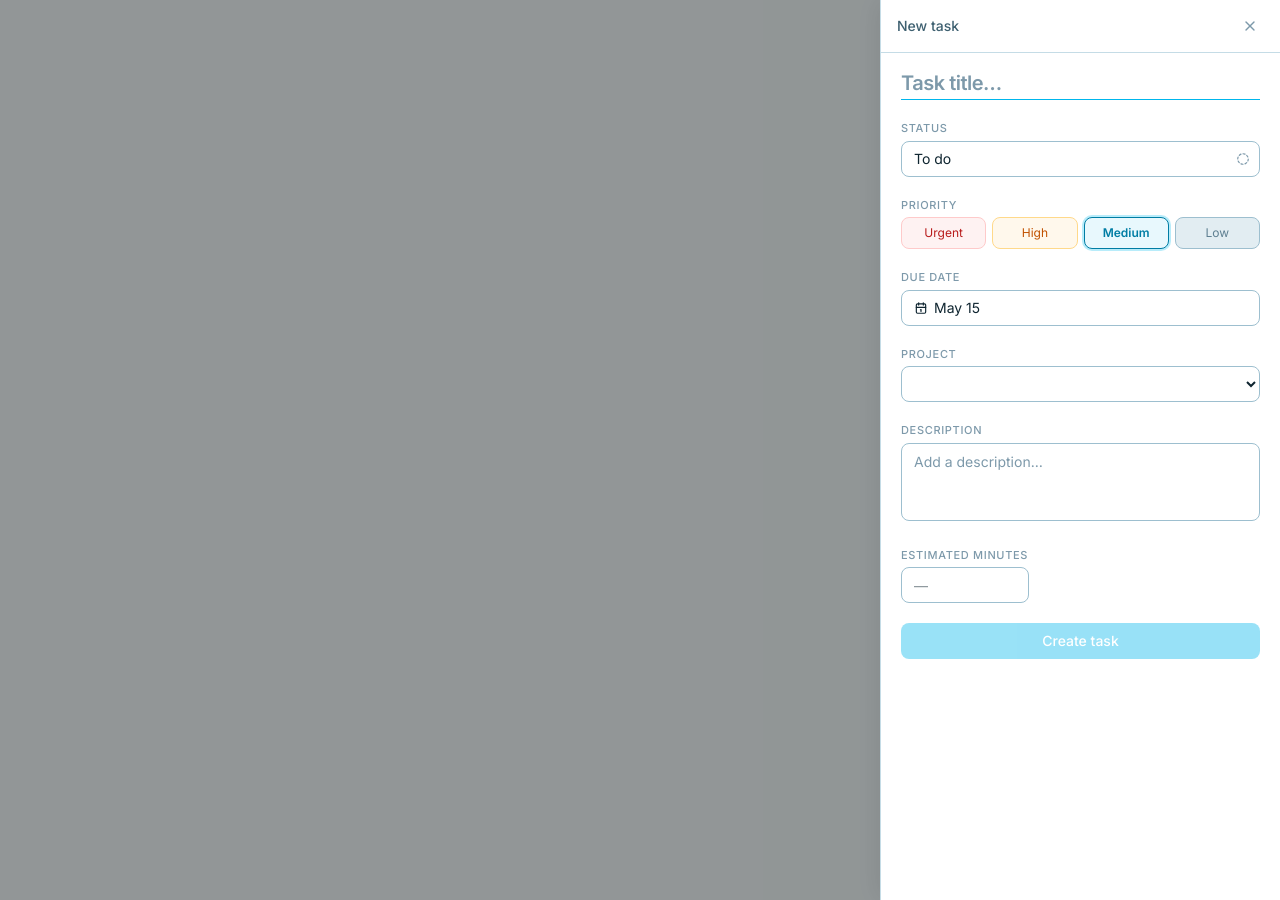
TaskDetail › create mode › typing a title enables the Create task button
Type "My new task" into the field labelled "Task title". click: (1080, 84)
box: [901,69,1260,100]
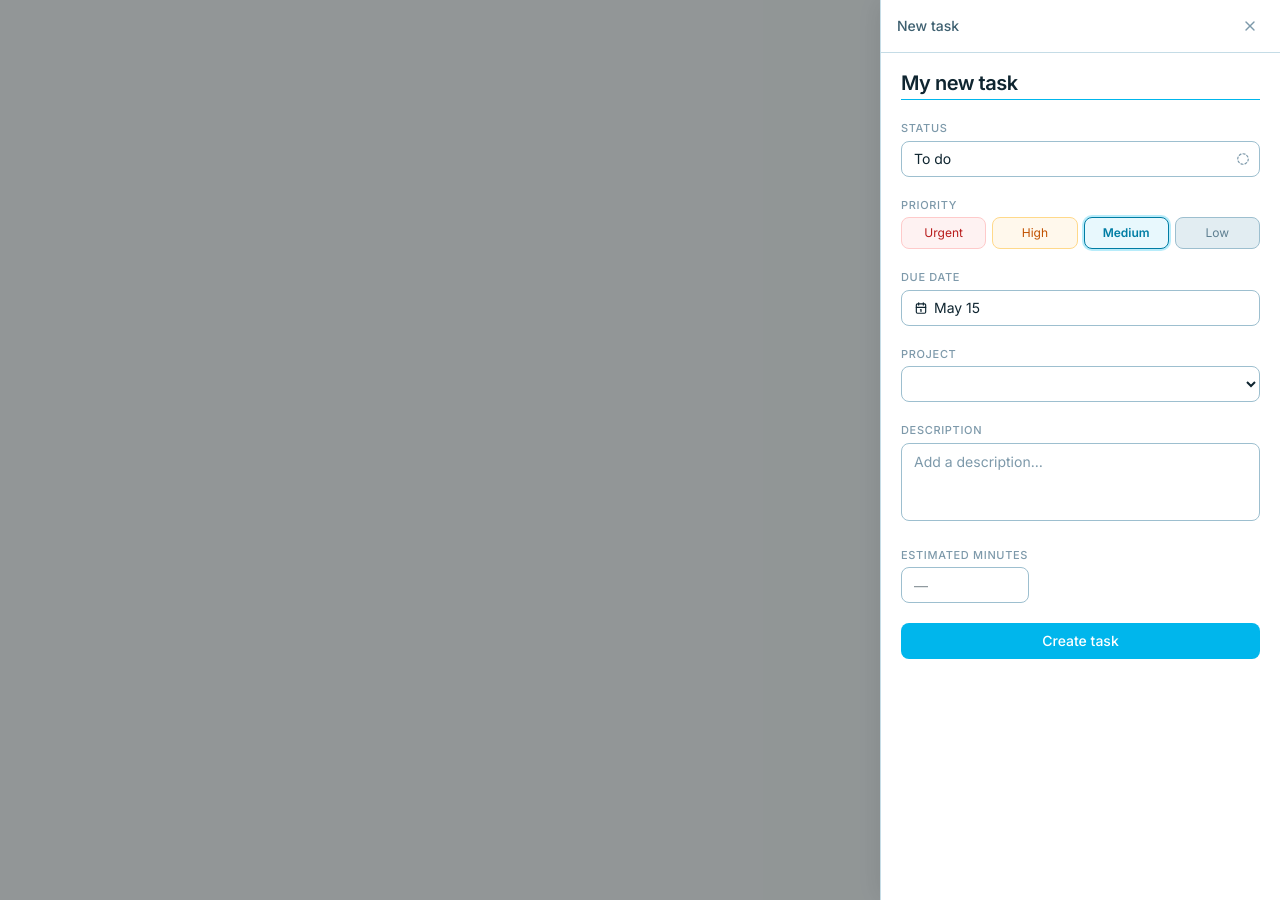
Now the button "Create task" is enabled, box [901,623,1260,659]
